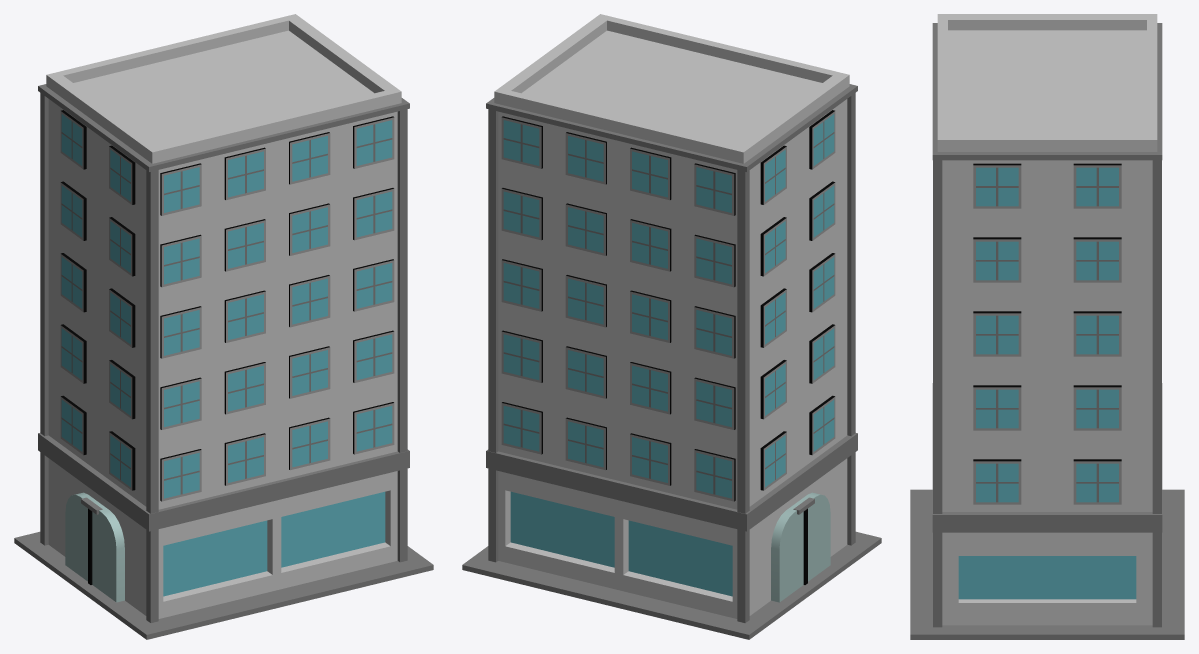
File: House3.fbx
The picture shows the model from 3 angles, left to right: view 1: azimuth 30°, elevation 25°; view 2: azimuth 150°, elevation 25°; view 3: azimuth 270°, elevation 25°; orthographic projection. The views are drawn at different scales.
Visible parts, largest first — view 1: House.003; view 2: House.003; view 3: House.003.
Part boxes in pixels (x1,y1,x2,y2): House.003: (14, 14, 433, 639); House.003: (462, 14, 881, 639); House.003: (910, 14, 1184, 639).
Bounding box in the file's own units: 1430 × 2254 × 1144.
